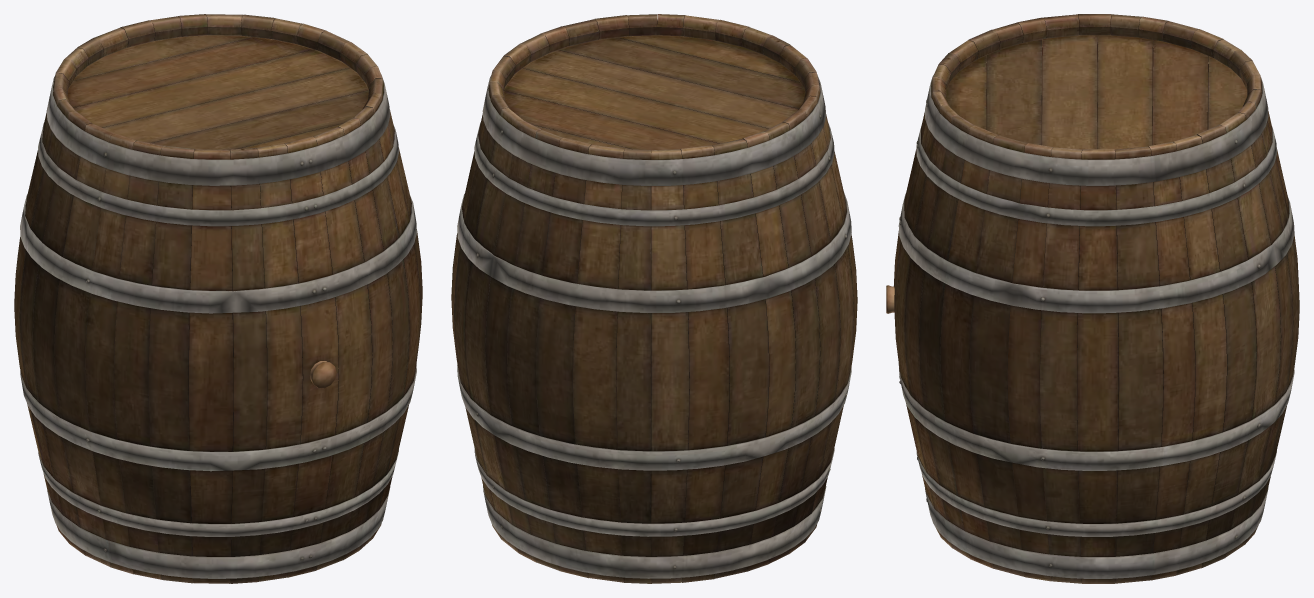
Rendered from wine_barrel_01.glb.
3 views of the same model, side by side, from view 1: azimuth 30°, elevation 25°; view 2: azimuth 150°, elevation 25°; view 3: azimuth 270°, elevation 25° (orthographic).
Parts seen in each view (by area): view 1: wine_barrel_01, wine_barrel_01_Lid, wine_barrel_01_bung; view 2: wine_barrel_01, wine_barrel_01_Lid; view 3: wine_barrel_01, wine_barrel_01_Lid.
Part boxes in pixels (x1=…): wine_barrel_01: x1=14, y1=14, x2=422, y2=583; wine_barrel_01_Lid: x1=67, y1=35, x2=368, y2=149; wine_barrel_01_bung: x1=310, y1=361, x2=336, y2=388; wine_barrel_01: x1=451, y1=14, x2=857, y2=583; wine_barrel_01_Lid: x1=503, y1=35, x2=805, y2=152; wine_barrel_01: x1=893, y1=14, x2=1299, y2=583; wine_barrel_01_Lid: x1=946, y1=35, x2=1247, y2=149.
Size of the model in its own units: 0.7419 by 0.8713 by 0.7554.
Materials: 1 (1 with a texture image).
